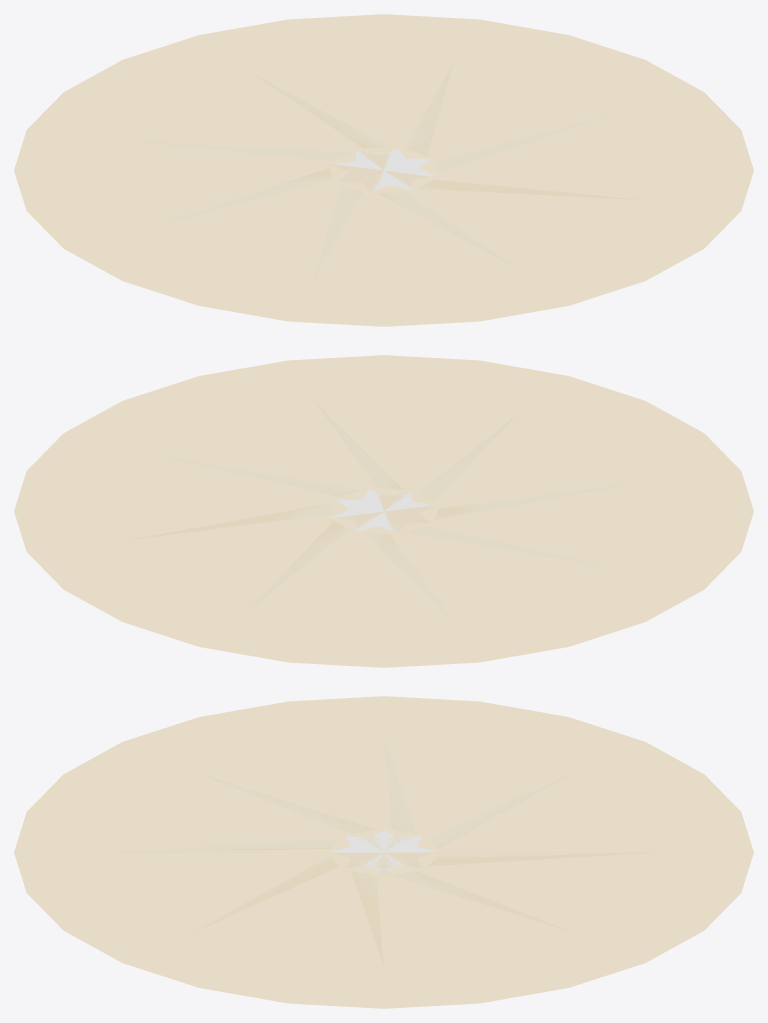
File: impact_flash.obj
3 renders of one model, top to bottom at view 1: azimuth 30°, elevation 25°; view 2: azimuth 150°, elevation 25°; view 3: azimuth 270°, elevation 25°, orthographic.
Parts seen in each view (by area): view 1: impact_flash; view 2: impact_flash; view 3: impact_flash.
Boxes of the visible parts, x1=… form: impact_flash: x1=14, y1=14, x2=753, y2=326; impact_flash: x1=14, y1=355, x2=753, y2=667; impact_flash: x1=14, y1=696, x2=753, y2=1008.
Size of the model in its own units: 2.43 by 0 by 2.43.
